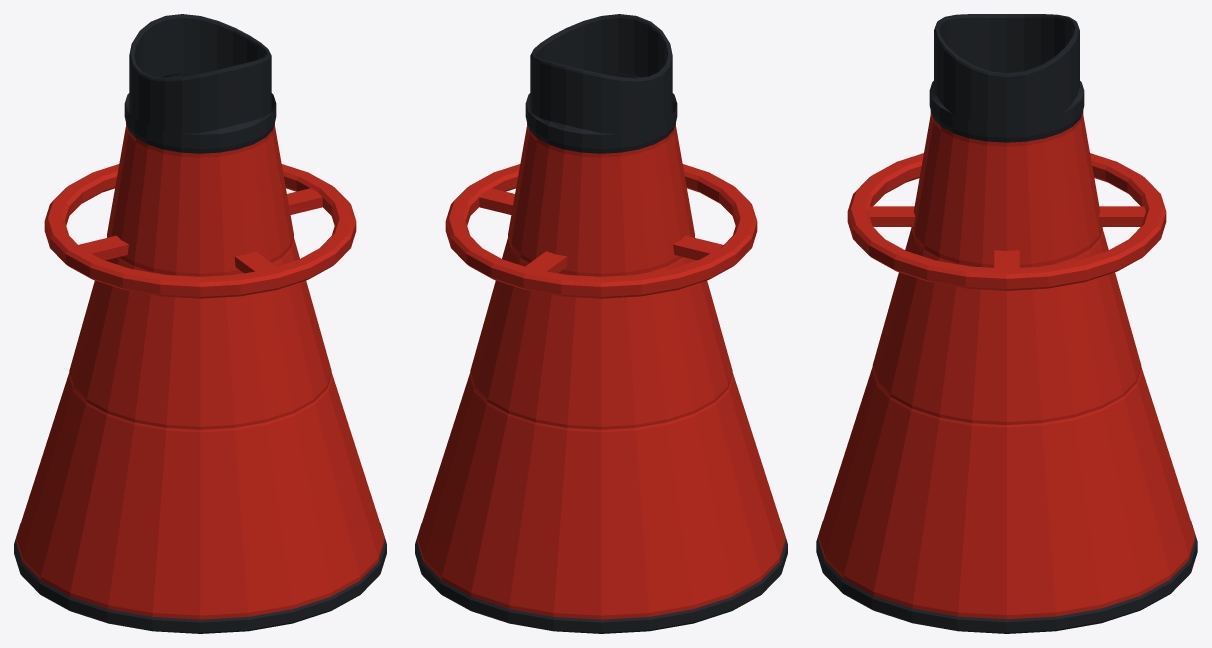
3 views of the same model, side by side, from view 1: azimuth 30°, elevation 25°; view 2: azimuth 150°, elevation 25°; view 3: azimuth 270°, elevation 25° (orthographic). The views are drawn at different scales.
Parts seen in each view (by area): view 1: NEW670_LowerShell, NEW670_UpperWithRing, NEW670_MiddleShell, NEW670_ContouredEyecup, NEW670_BaseRim; view 2: NEW670_LowerShell, NEW670_UpperWithRing, NEW670_MiddleShell, NEW670_ContouredEyecup, NEW670_BaseRim; view 3: NEW670_LowerShell, NEW670_UpperWithRing, NEW670_MiddleShell, NEW670_ContouredEyecup, NEW670_BaseRim.
Boxes of the visible parts, x1,y1,x2,y2 form: NEW670_LowerShell: (16,373,384,619); NEW670_UpperWithRing: (44,123,356,298); NEW670_MiddleShell: (69,238,331,429); NEW670_ContouredEyecup: (124,14,276,153); NEW670_BaseRim: (14,523,386,633); NEW670_LowerShell: (417,373,785,619); NEW670_UpperWithRing: (445,123,757,298); NEW670_MiddleShell: (470,238,732,429); NEW670_ContouredEyecup: (525,14,677,153); NEW670_BaseRim: (415,523,787,633); NEW670_LowerShell: (818,367,1195,619); NEW670_UpperWithRing: (847,111,1166,290); NEW670_MiddleShell: (872,229,1141,424); NEW670_ContouredEyecup: (929,14,1084,142); NEW670_BaseRim: (816,521,1197,633).
Size of the model in its own units: 0.335 by 0.51 by 0.335.
